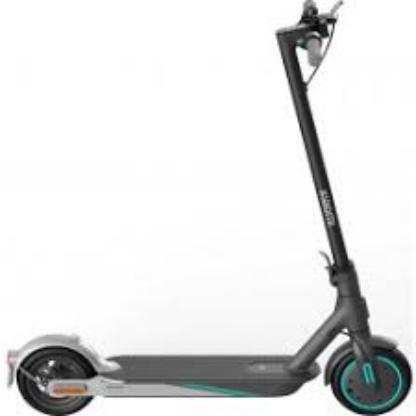bike: (1, 7, 415, 416)
